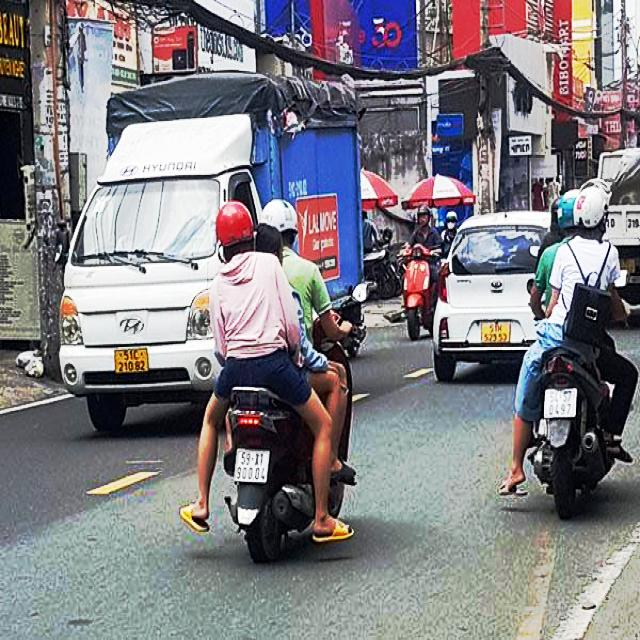license_plate: (236, 451, 271, 483), (546, 389, 578, 419), (116, 347, 150, 373)
